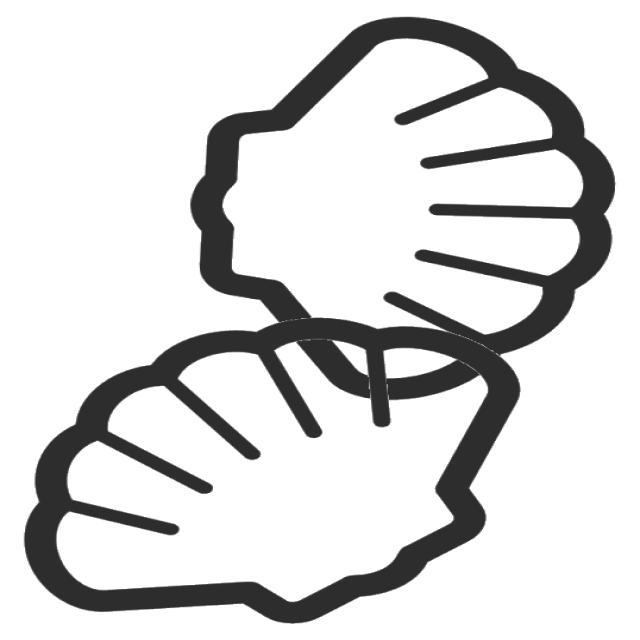shell: (173, 11, 622, 410), (15, 308, 532, 633)
